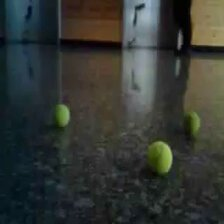tennis: (146, 140, 173, 177), (182, 112, 200, 138), (54, 104, 71, 129)
